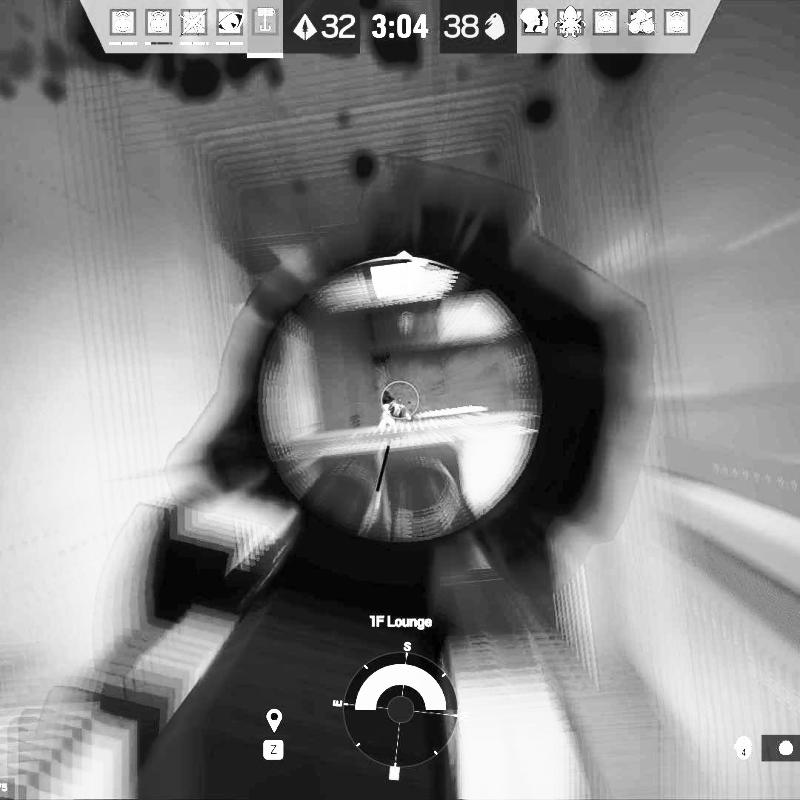Character: (380, 389, 410, 427)
Head: (382, 392, 395, 411)
